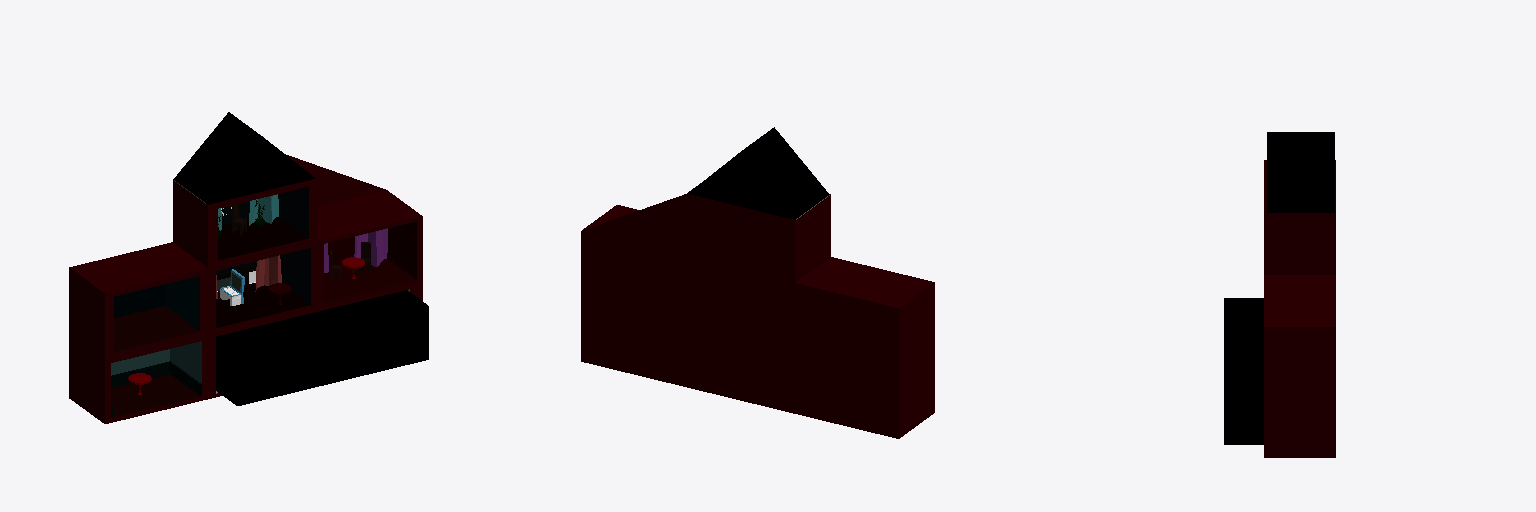
The model's file is Doll.obj.
3 renders of one model, left to right at view 1: azimuth 30°, elevation 25°; view 2: azimuth 150°, elevation 25°; view 3: azimuth 270°, elevation 25°, orthographic.
Visible parts, largest first — view 1: pCube11, pCube9, pPlane9, pPlane7, pPlane78, pCylinder7; view 2: pCube11; view 3: pCube11, pCube9.
Boxes of the visible parts, x1=… form: pCube11: x1=69, y1=112, x2=422, y2=423; pCube9: x1=216, y1=290, x2=428, y2=405; pPlane9: x1=354, y1=228, x2=387, y2=266; pPlane7: x1=255, y1=255, x2=281, y2=291; pPlane78: x1=249, y1=194, x2=278, y2=225; pCylinder7: x1=220, y1=269, x2=244, y2=305; pCube11: x1=581, y1=127, x2=934, y2=438; pCube11: x1=1264, y1=132, x2=1335, y2=457; pCube9: x1=1224, y1=298, x2=1263, y2=444.
Bounding box in the file's own units: 14.9 × 11.12 × 4.54.